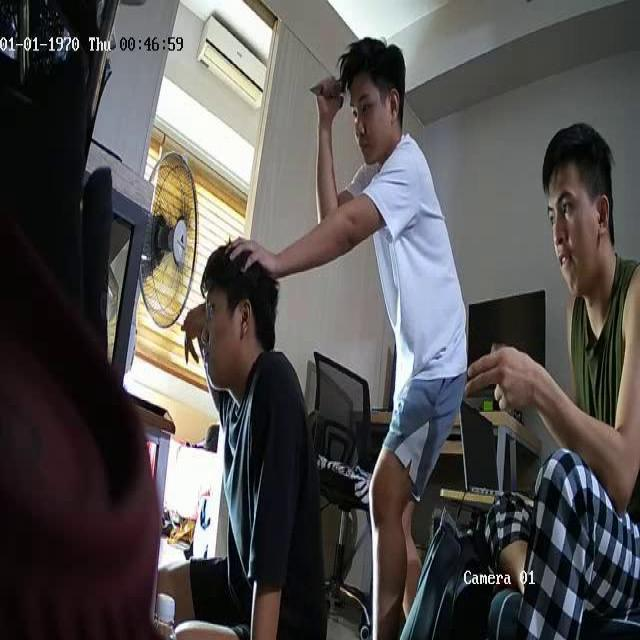scissor: (310, 77, 346, 109)
